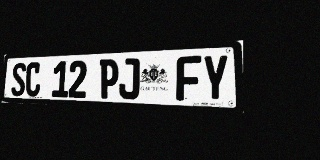1: (52, 61, 69, 97)
2: (69, 60, 87, 98)
C: (25, 62, 41, 97)
F: (176, 55, 201, 101)
J: (119, 58, 140, 99)
P: (99, 59, 119, 99)
S: (11, 63, 26, 96)
Y: (202, 54, 229, 102)
